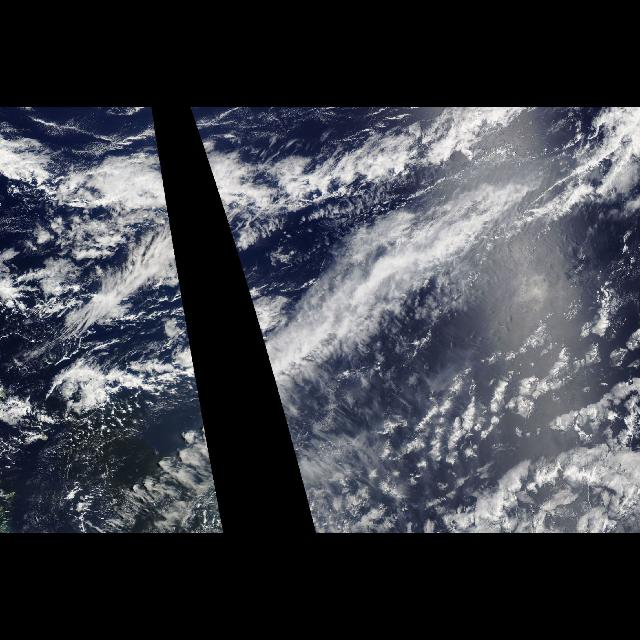Fish: (203, 149, 387, 335), (20, 149, 190, 335)
